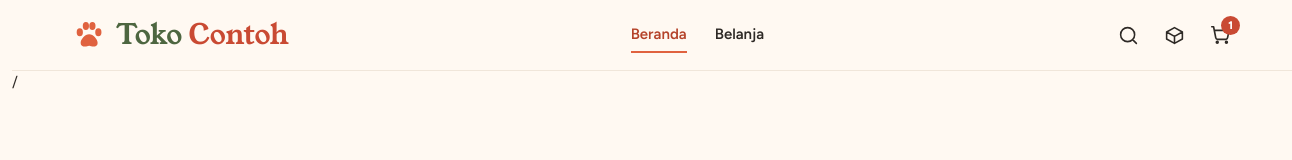
Header › opens the cart drawer from the cart button
Click the button named "Keranjang" at (1220,35), box [1198,13,1242,57]
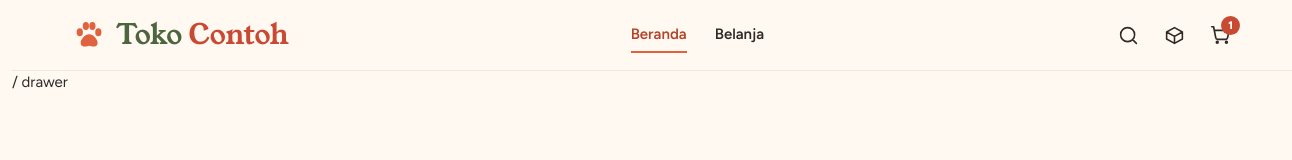
expect the text with test id "where" reads "/ drawer": met, box [12,73,68,91]
